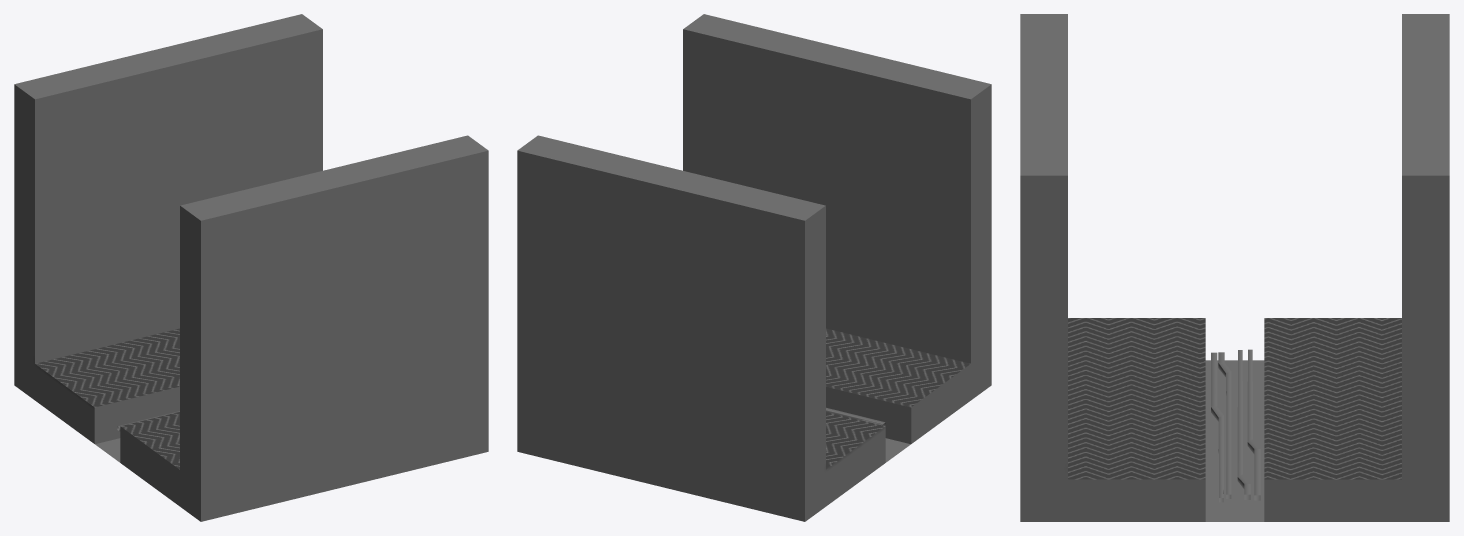
3 views of the same model, side by side, from view 1: azimuth 30°, elevation 25°; view 2: azimuth 150°, elevation 25°; view 3: azimuth 270°, elevation 25° (orthographic). The views are drawn at different scales.
Visible parts, largest first — view 1: SM_B2_Part; view 2: SM_B2_Part; view 3: SM_B2_Part.
Part boxes in pixels (x1,y1,x2,y2): SM_B2_Part: (14,14,488,521); SM_B2_Part: (517,14,991,521); SM_B2_Part: (1020,14,1449,521).
Size of the model in its own units: 406 by 456 by 406.
Materials: 1 (1 with a texture image).
